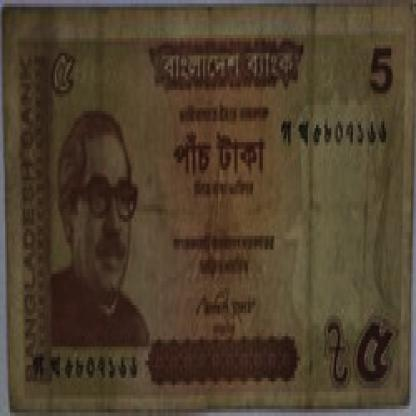Five Taka: (168, 125, 273, 184), (353, 308, 396, 392), (364, 31, 398, 111), (45, 41, 80, 118)
